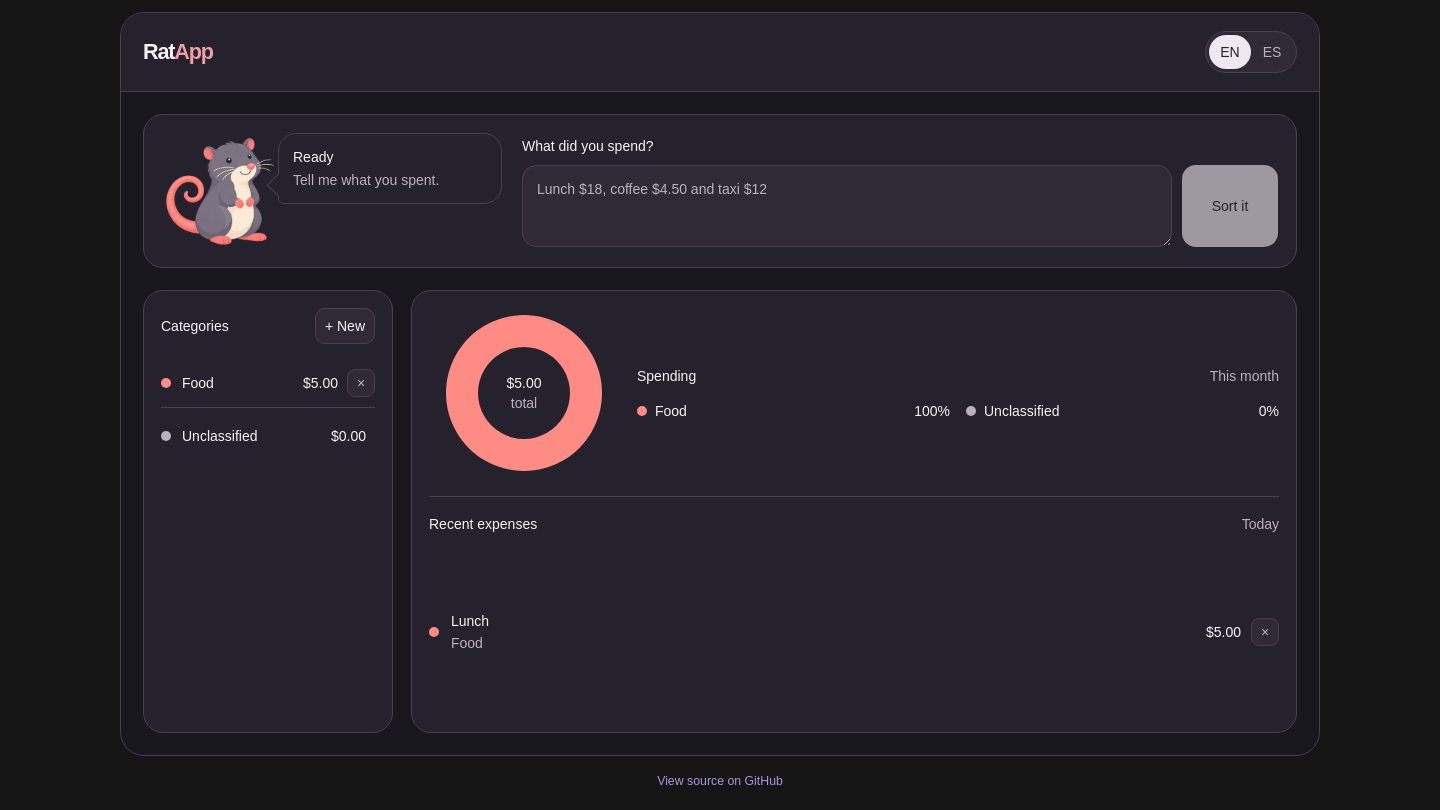
Scenario: DashboardPage API composition › translates and re-sorts categories without refetching them
expect the text "Lunch" is shown: met, box [451,613,489,629]
Step 1. Click the button with aria-label "Español" → (1272, 52), box [1251,35,1293,69]
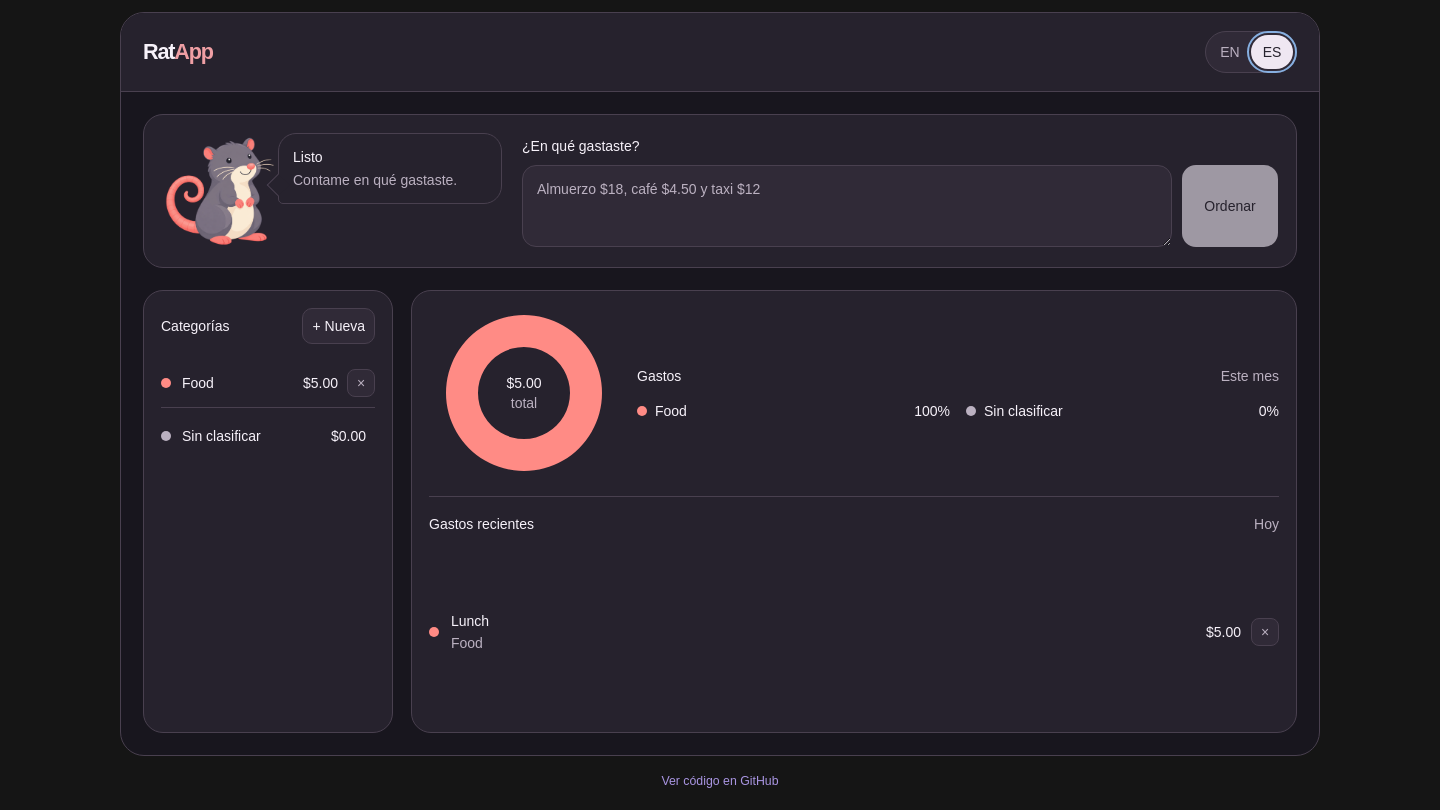
expect the heading "Categorías" is shown: met, box [161,316,230,336]
